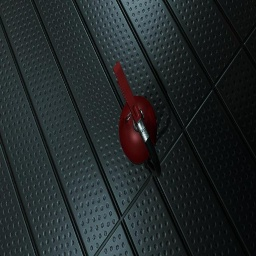FireExtinguisher ]: (113, 61, 161, 178)
